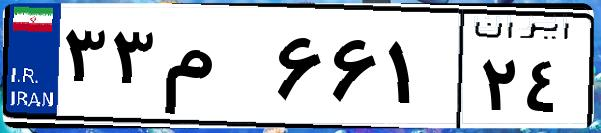1: (385, 28, 445, 110)
2: (475, 38, 525, 113)
3: (57, 26, 110, 100), (110, 28, 158, 98)
4: (525, 38, 570, 115)
6: (270, 28, 330, 110), (330, 28, 385, 110)
م: (158, 20, 270, 120)
